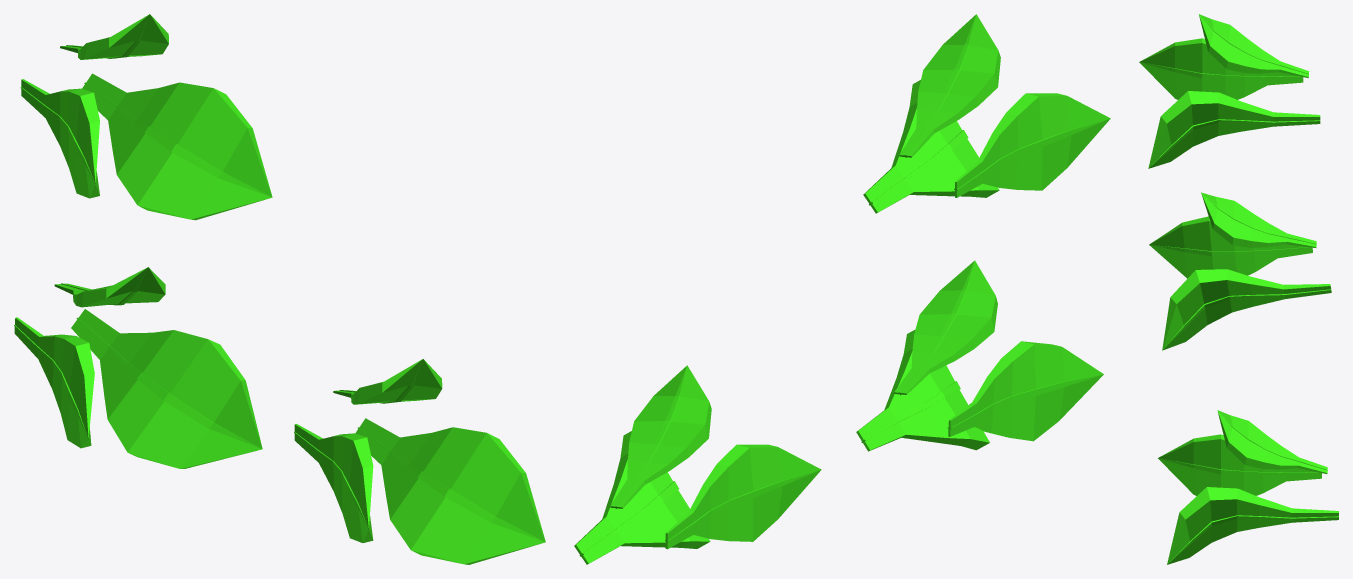
File: CarrotStage1.fbx
The picture shows the model from 3 angles, left to right: view 1: azimuth 30°, elevation 25°; view 2: azimuth 150°, elevation 25°; view 3: azimuth 270°, elevation 25°; orthographic projection. The views are drawn at different scales.
Visible parts, largest first — view 1: Cube.061, Cube.060, Cube.062; view 2: Cube.060, Cube.062, Cube.061; view 3: Cube.061, Cube.060, Cube.062.
Part boxes in pixels (x1=…): Cube.061: x1=14, y1=267, x2=262, y2=468; Cube.060: x1=294, y1=359, x2=545, y2=564; Cube.062: x1=20, y1=14, x2=272, y2=220; Cube.060: x1=574, y1=365, x2=821, y2=564; Cube.062: x1=863, y1=14, x2=1110, y2=213; Cube.061: x1=856, y1=260, x2=1103, y2=451; Cube.061: x1=1149, y1=192, x2=1331, y2=350; Cube.060: x1=1158, y1=410, x2=1338, y2=564; Cube.062: x1=1139, y1=14, x2=1320, y2=168.
Bounding box in the file's own units: 634 × 802 × 332.
